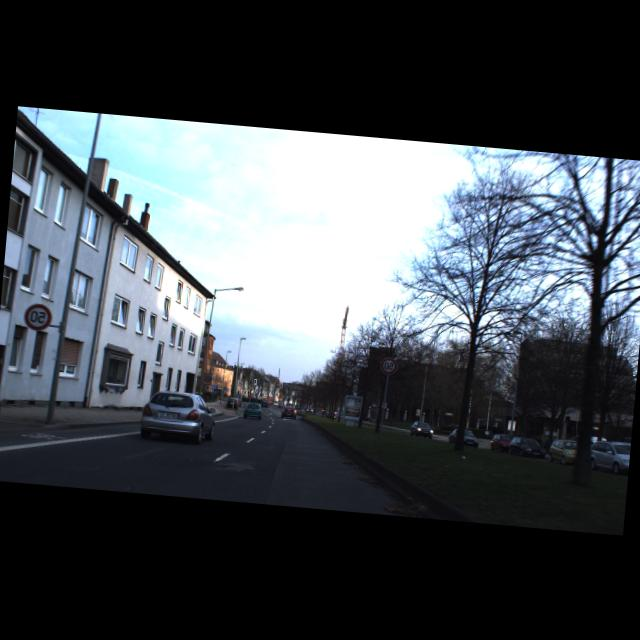prohibitory: (23, 301, 52, 330), (379, 356, 398, 374)
